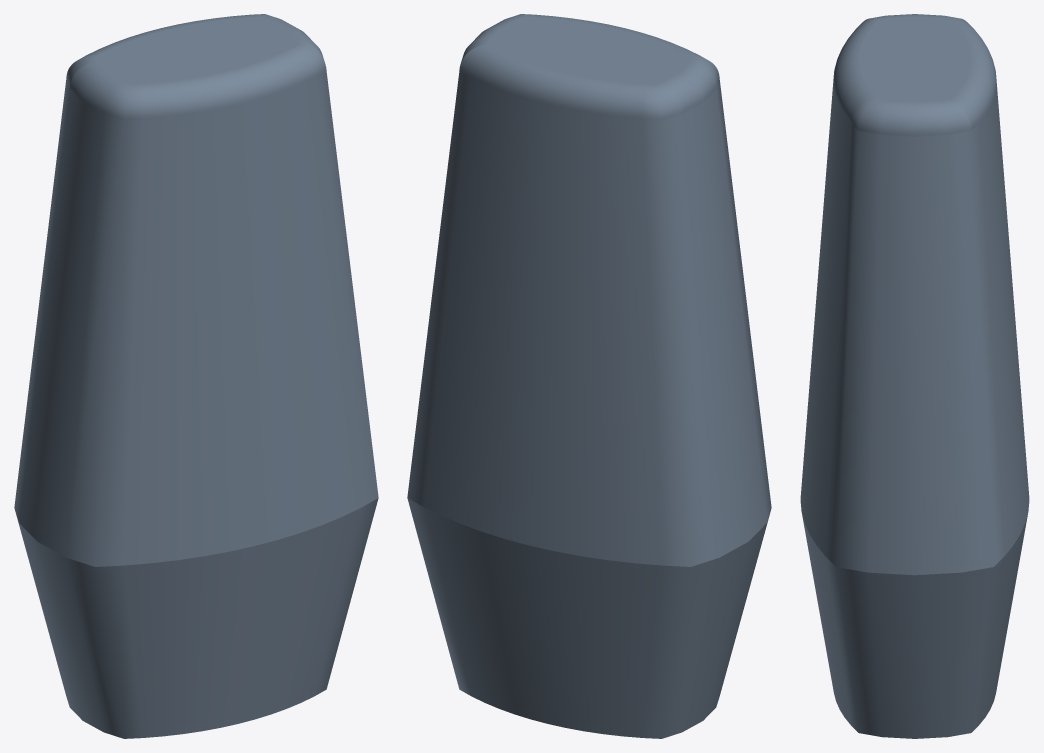
Rendered from original-2.obj.
3 renders of one model, left to right at view 1: azimuth 30°, elevation 25°; view 2: azimuth 150°, elevation 25°; view 3: azimuth 270°, elevation 25°, orthographic. The views are drawn at different scales.
Parts seen in each view (by area): view 1: mesh1/mesh1-geometry#mesh1-geometry; view 2: mesh1/mesh1-geometry#mesh1-geometry; view 3: mesh1/mesh1-geometry#mesh1-geometry.
Boxes of the visible parts, x1=… form: mesh1/mesh1-geometry#mesh1-geometry: x1=14, y1=14, x2=378, y2=738; mesh1/mesh1-geometry#mesh1-geometry: x1=407, y1=14, x2=771, y2=738; mesh1/mesh1-geometry#mesh1-geometry: x1=800, y1=14, x2=1029, y2=738.
Bounding box in the file's own units: 0.7878 × 1.52 × 0.5042.
